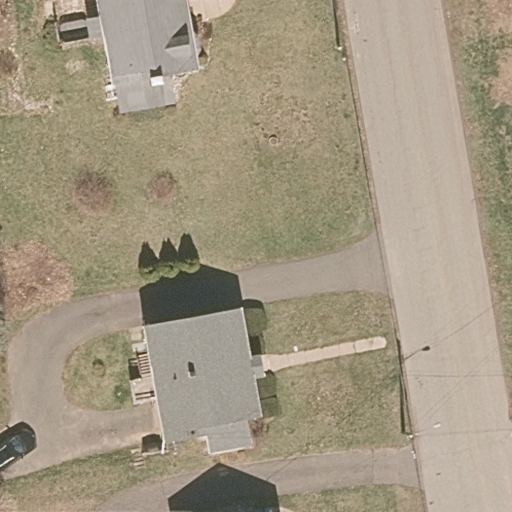DT: (399, 420, 441, 459)
